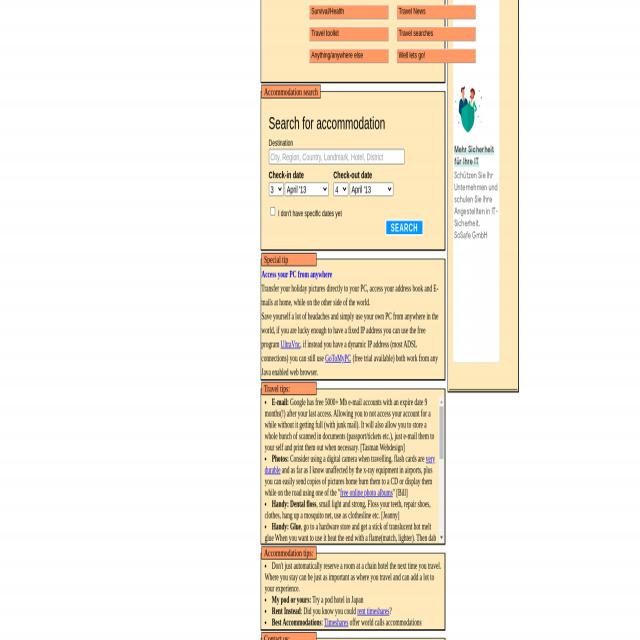button: (398, 6, 476, 20), (310, 50, 389, 63), (310, 6, 388, 19), (310, 28, 388, 41), (398, 50, 476, 63), (398, 28, 476, 40), (385, 220, 423, 236), (439, 406, 444, 459), (439, 397, 444, 406), (439, 533, 444, 542)
field: (269, 149, 405, 165), (285, 182, 329, 196), (349, 182, 393, 196), (269, 182, 283, 196), (334, 182, 348, 196), (270, 206, 276, 216)
